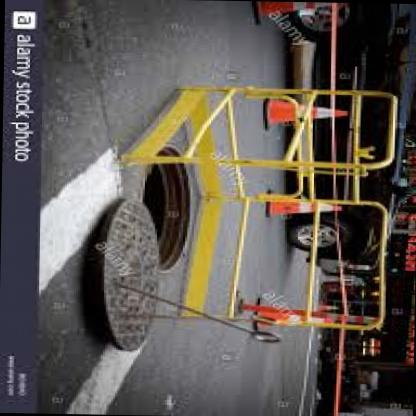manholes: (40, 124, 224, 356)
